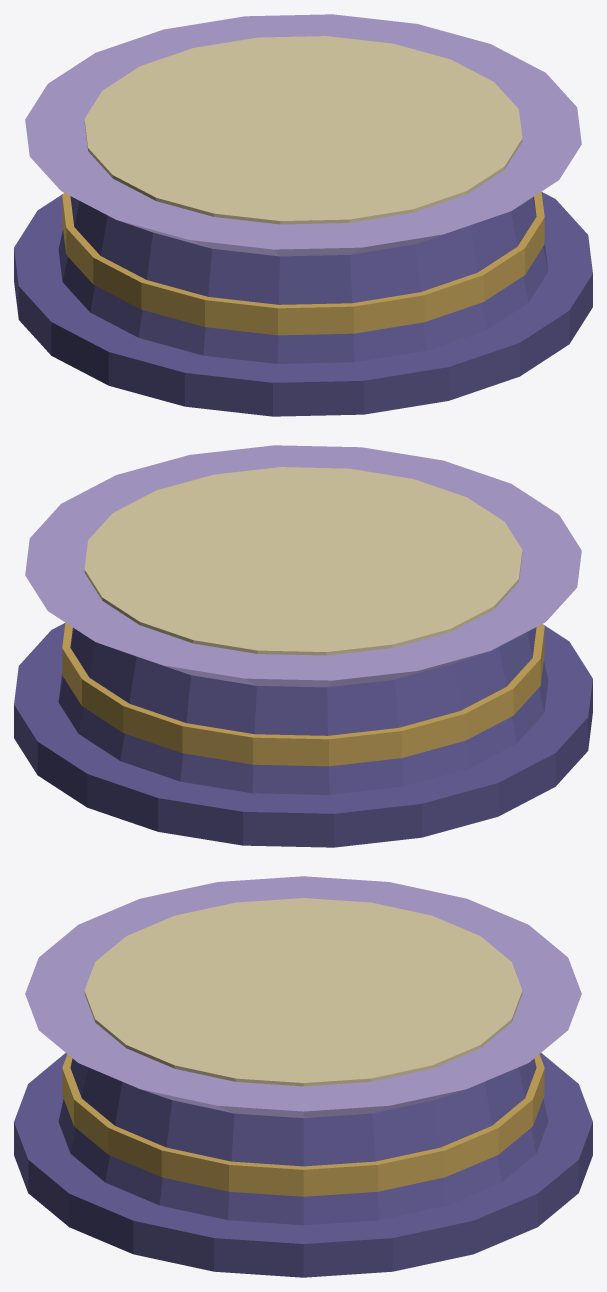
File: goo_cork_stand@starlight.fbx
3 views of the same model, one above another, from view 1: azimuth 30°, elevation 25°; view 2: azimuth 150°, elevation 25°; view 3: azimuth 270°, elevation 25° (orthographic).
Visible parts, largest first — view 1: goo_cork_stand; view 2: goo_cork_stand; view 3: goo_cork_stand.
Part boxes in pixels (x1=…): goo_cork_stand: x1=14, y1=14, x2=592, y2=416; goo_cork_stand: x1=14, y1=445, x2=592, y2=847; goo_cork_stand: x1=14, y1=876, x2=592, y2=1277.
Bounding box in the file's own units: 7.8 × 2.45 × 7.8.
